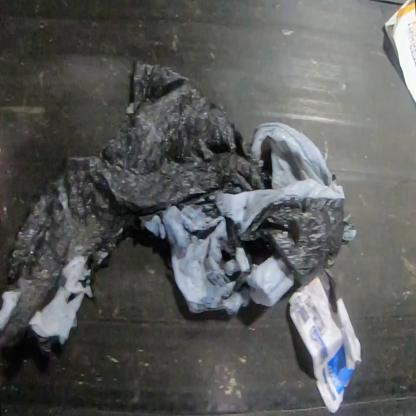soft_plastic: (0, 59, 356, 356)
